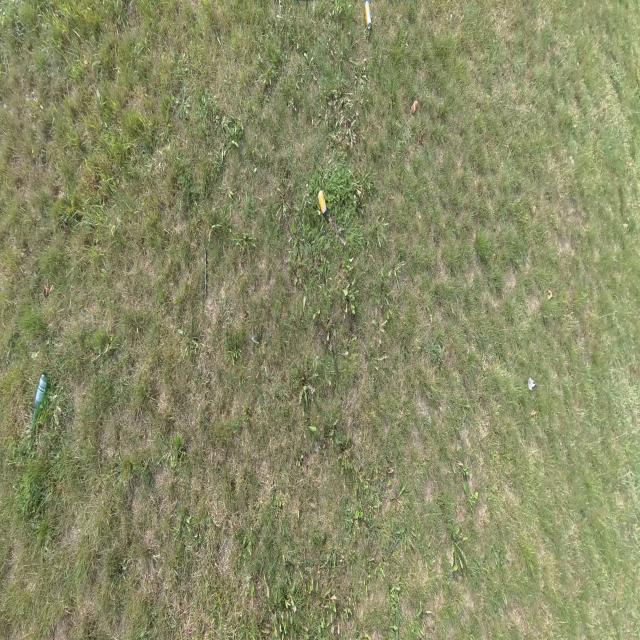rubbish: (30, 370, 49, 434), (316, 183, 327, 216), (363, 0, 371, 29)
